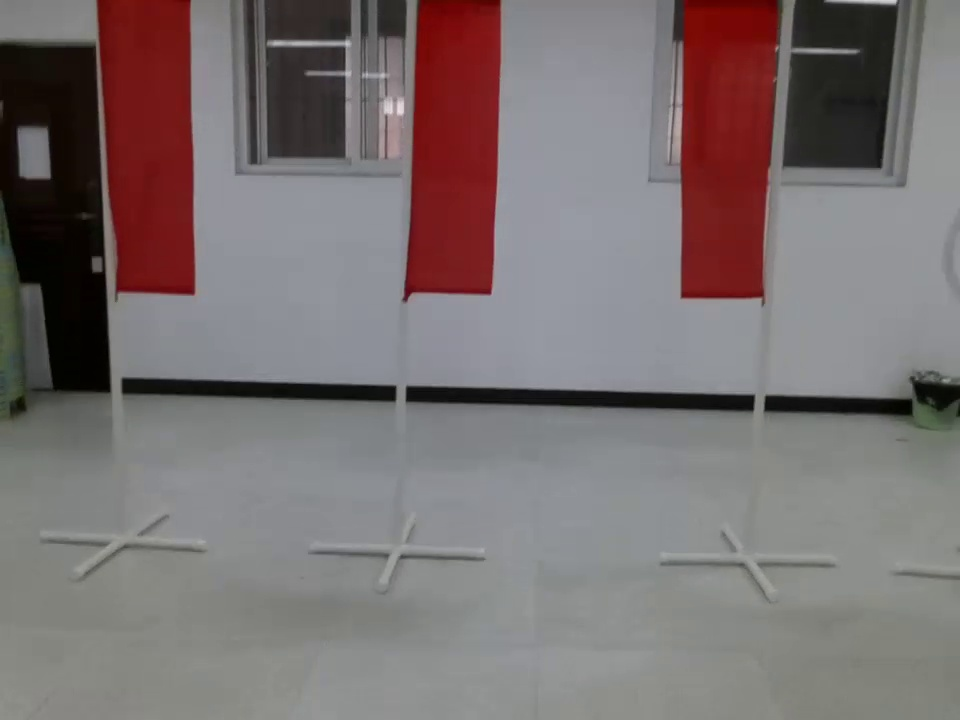qi: (88, 2, 216, 305), (676, 1, 790, 322), (409, 2, 505, 319)
